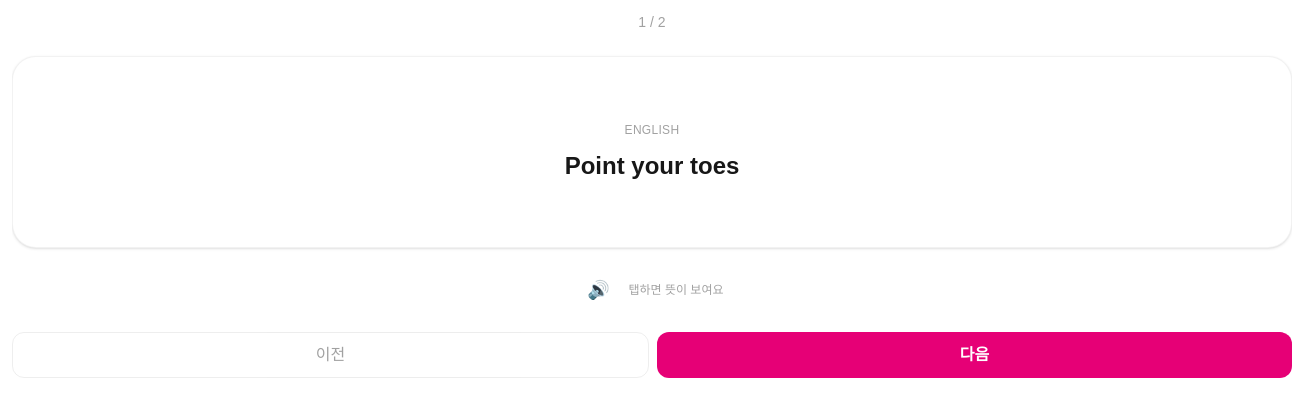
Test case: FlashcardDeck › navigates between cards and tracks progress
Expected: the text with test id "progress" reads "1 / 2", [638,12,666,32]
Click the button "다음": (974, 355) [657,332,1292,378]
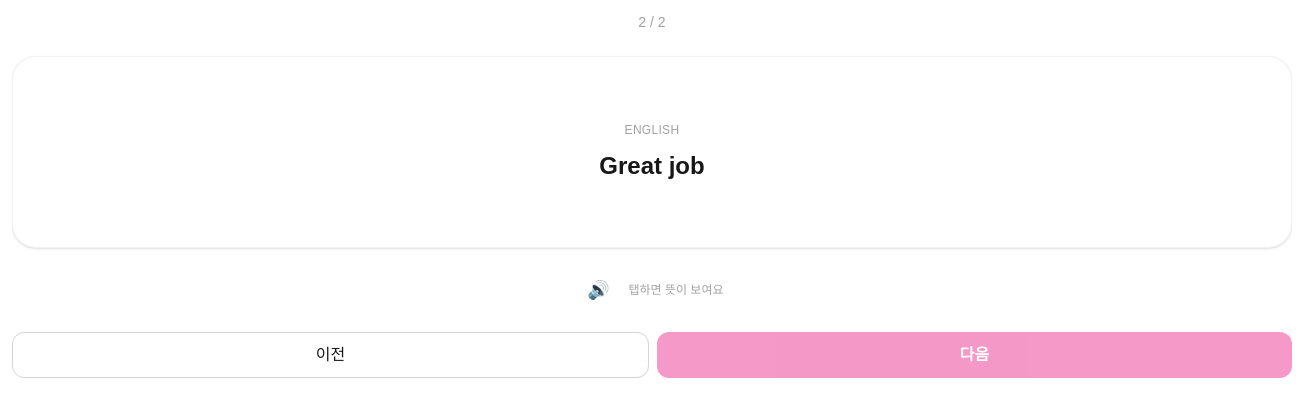
Expected: the text "Great job" is shown, [599,150,705,182]
Expected: the text with test id "progress" reads "2 / 2", [638,12,666,32]
Expected: the button "다음" is disabled, [657,332,1292,378]
